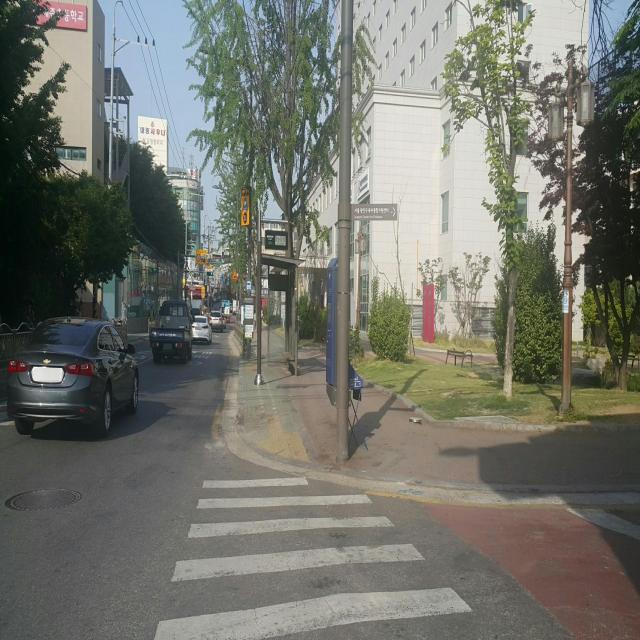횡단보도: (151, 472, 474, 640)
